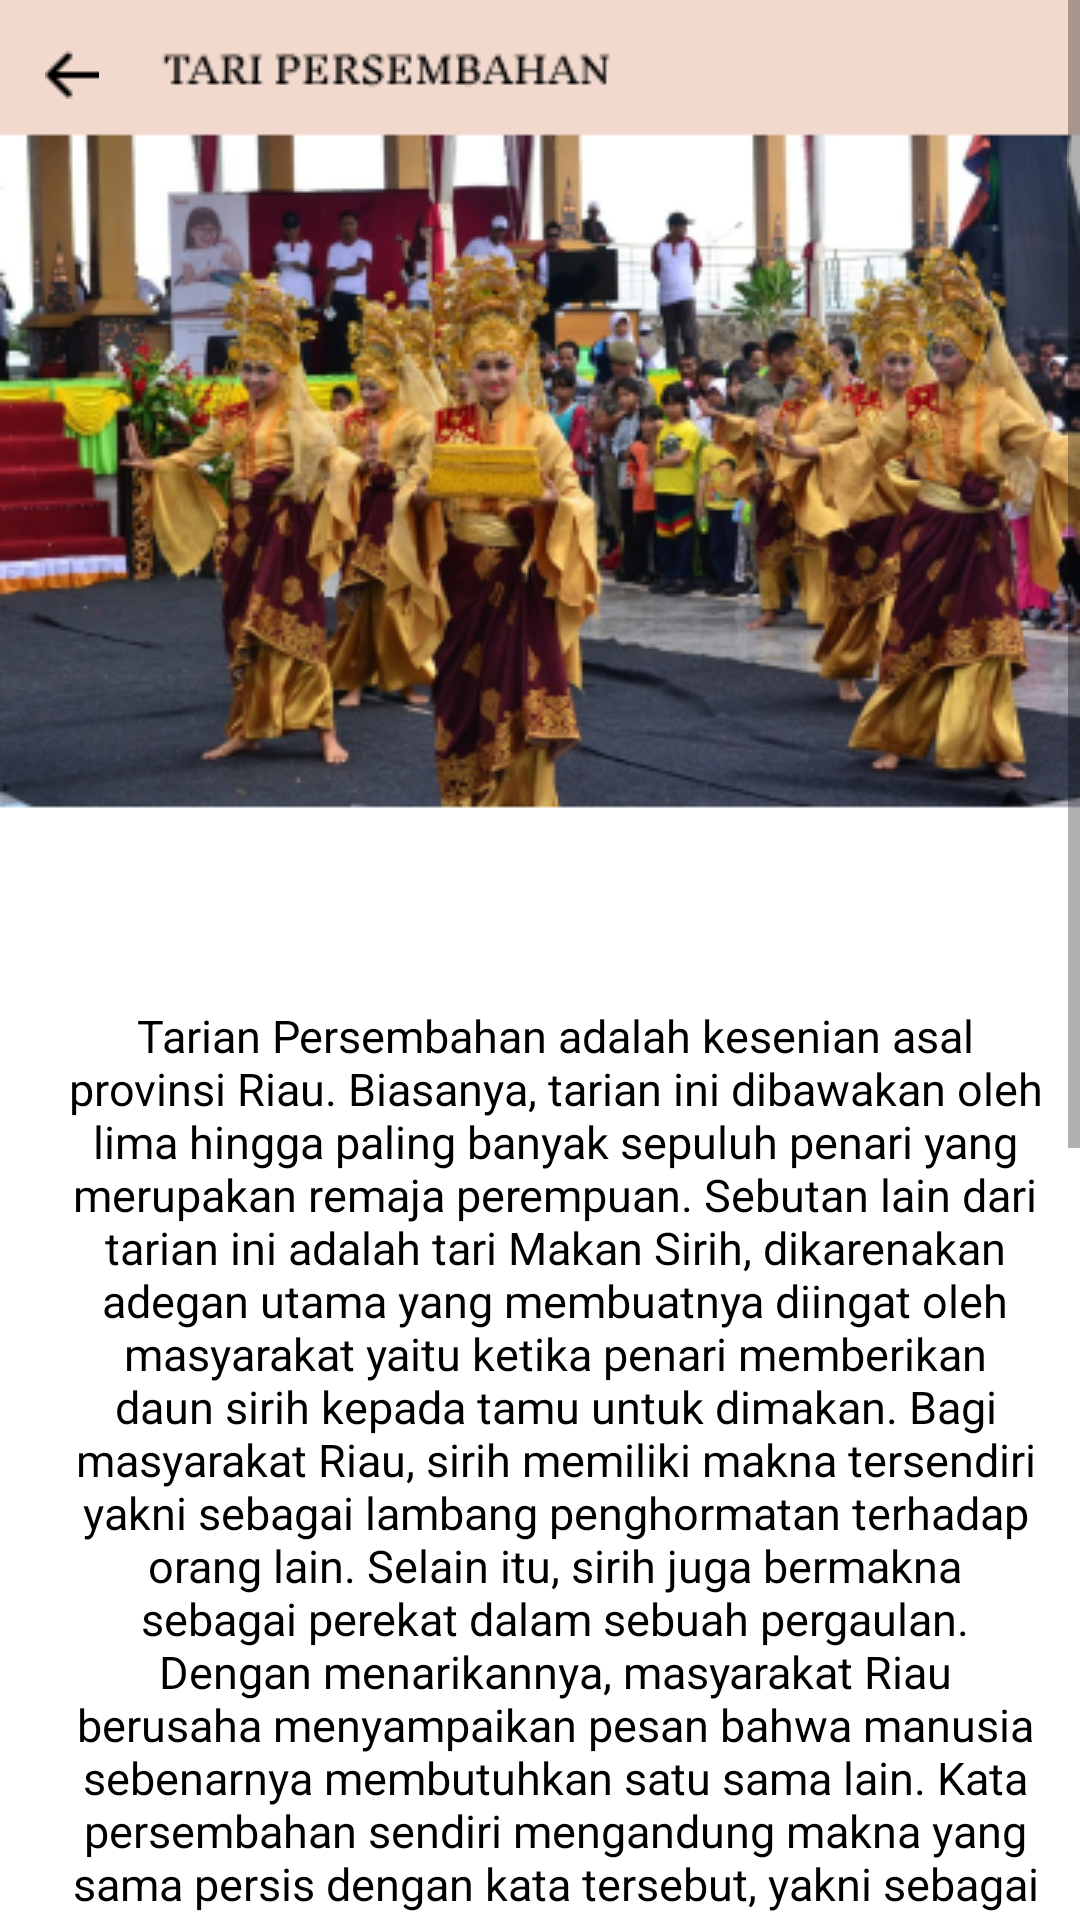

Icon bounding boxes for this 1080px x 1920px phone screenshot, format Rect(x1, y1, x2, y2):
back: Rect(45, 51, 99, 99)
